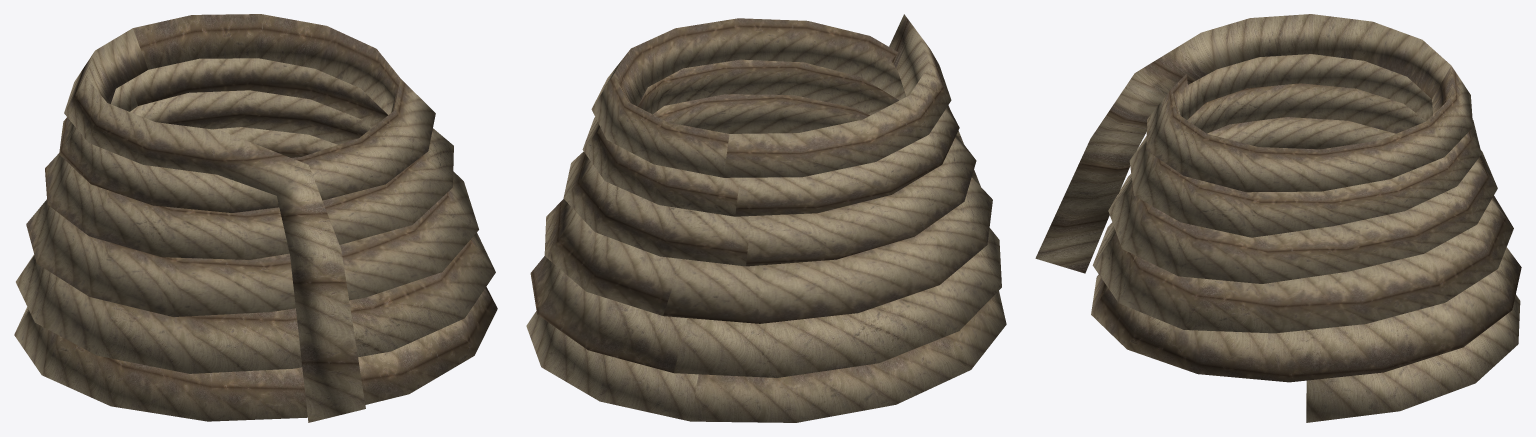
The model's file is rope_pickup_better.glb.
The picture shows the model from 3 angles, left to right: view 1: azimuth 30°, elevation 25°; view 2: azimuth 150°, elevation 25°; view 3: azimuth 270°, elevation 25°; orthographic projection. The views are drawn at different scales.
Visible parts, largest first — view 1: Circle; view 2: Circle; view 3: Circle.
Part boxes in pixels (x1,y1,x2,y2): Circle: (14,14,497,422); Circle: (526,14,1006,422); Circle: (1035,14,1521,422).
Size of the model in its own units: 1.23 by 0.7996 by 1.37.
1 material, 1 textured.
